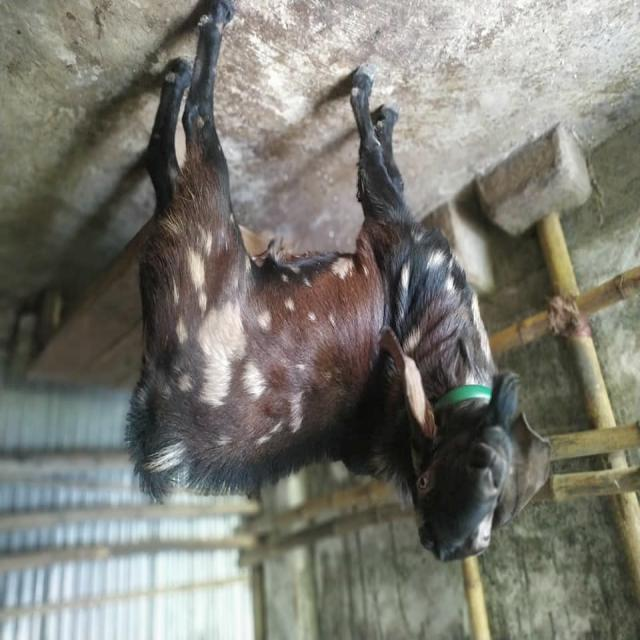Goat: (124, 3, 521, 565), (492, 414, 553, 534)
